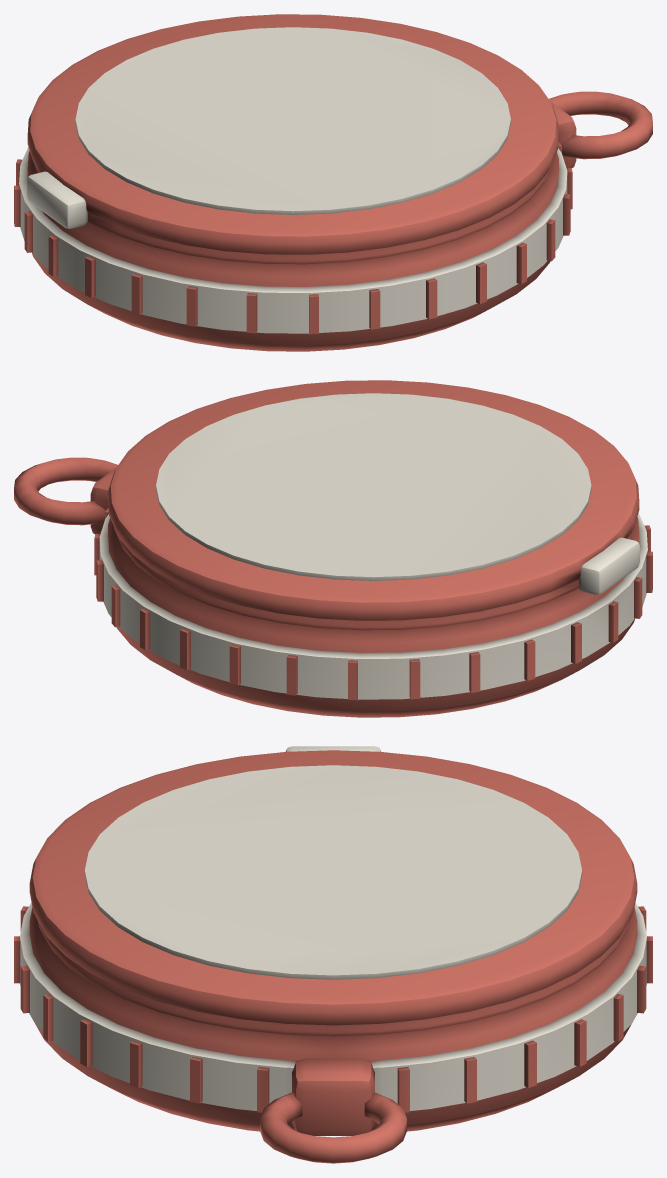
File: nd_compass.glb
3 renders of one model, top to bottom at view 1: azimuth 30°, elevation 25°; view 2: azimuth 150°, elevation 25°; view 3: azimuth 270°, elevation 25°, orthographic. The views are drawn at different scales.
Visible parts, largest first — view 1: LID, PART; view 2: LID, PART; view 3: LID, PART.
Boxes of the visible parts, x1,y1,x2,y2 form: LID: (27,14,558,254); PART: (14,91,652,351); LID: (108,380,639,620); PART: (14,457,652,717); LID: (29,746,637,1025); PART: (14,902,652,1163).
Size of the model in its own units: 0.1144 by 0.0238 by 0.0925.
